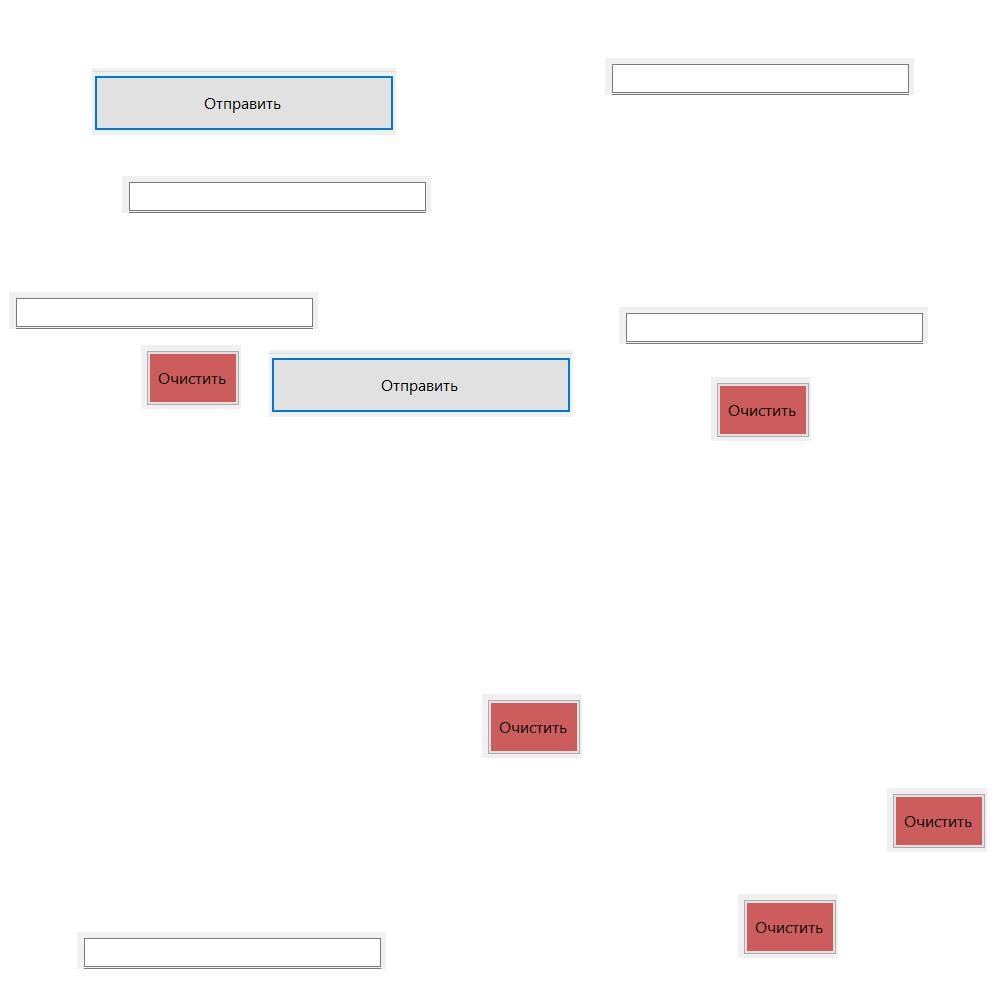Button: (269, 350, 573, 417), (92, 68, 396, 135), (482, 694, 582, 758), (141, 345, 241, 409), (738, 894, 838, 958), (711, 377, 811, 441), (887, 788, 987, 852)
EditText-: (9, 292, 318, 329), (605, 58, 914, 95), (619, 307, 928, 344), (77, 932, 386, 969), (122, 176, 431, 213)
